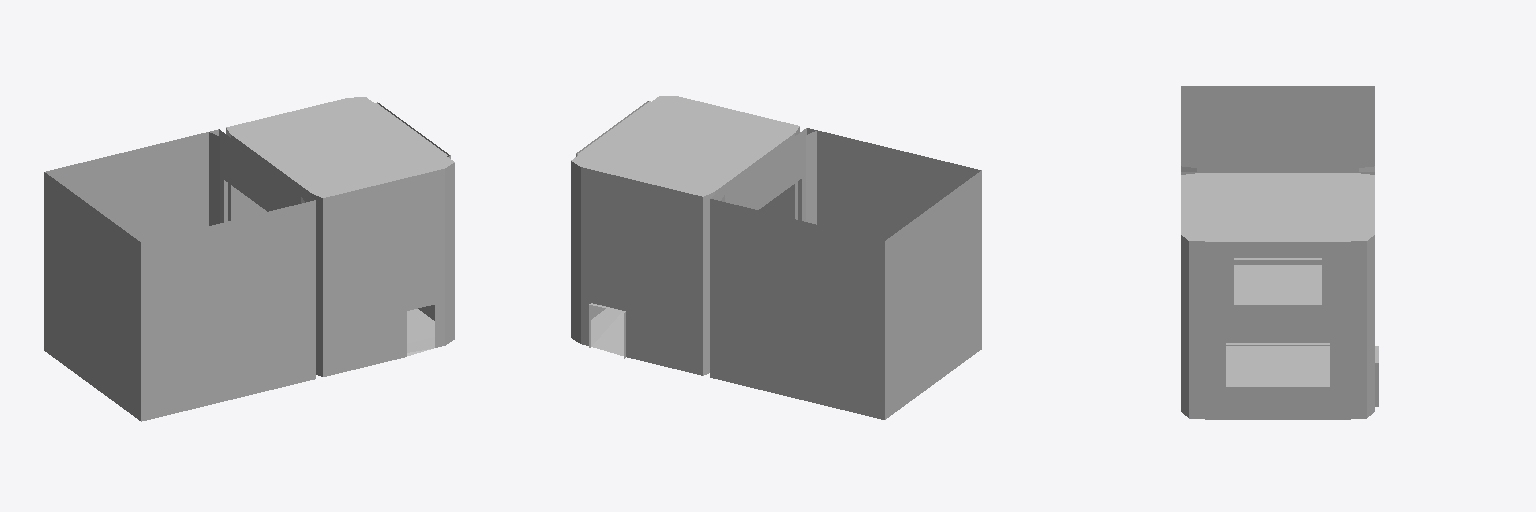
File: Gate-Room.obj
3 views of the same model, side by side, from view 1: azimuth 30°, elevation 25°; view 2: azimuth 150°, elevation 25°; view 3: azimuth 270°, elevation 25° (orthographic).
Visible parts, largest first — view 1: Gate-Room; view 2: Gate-Room; view 3: Gate-Room.
Part boxes in pixels (bbox=[...]): Gate-Room: bbox=[44, 97, 454, 421]; Gate-Room: bbox=[571, 96, 981, 419]; Gate-Room: bbox=[1181, 86, 1378, 419].
Bounding box in the file's own units: 23.5 × 12.25 × 12.25.